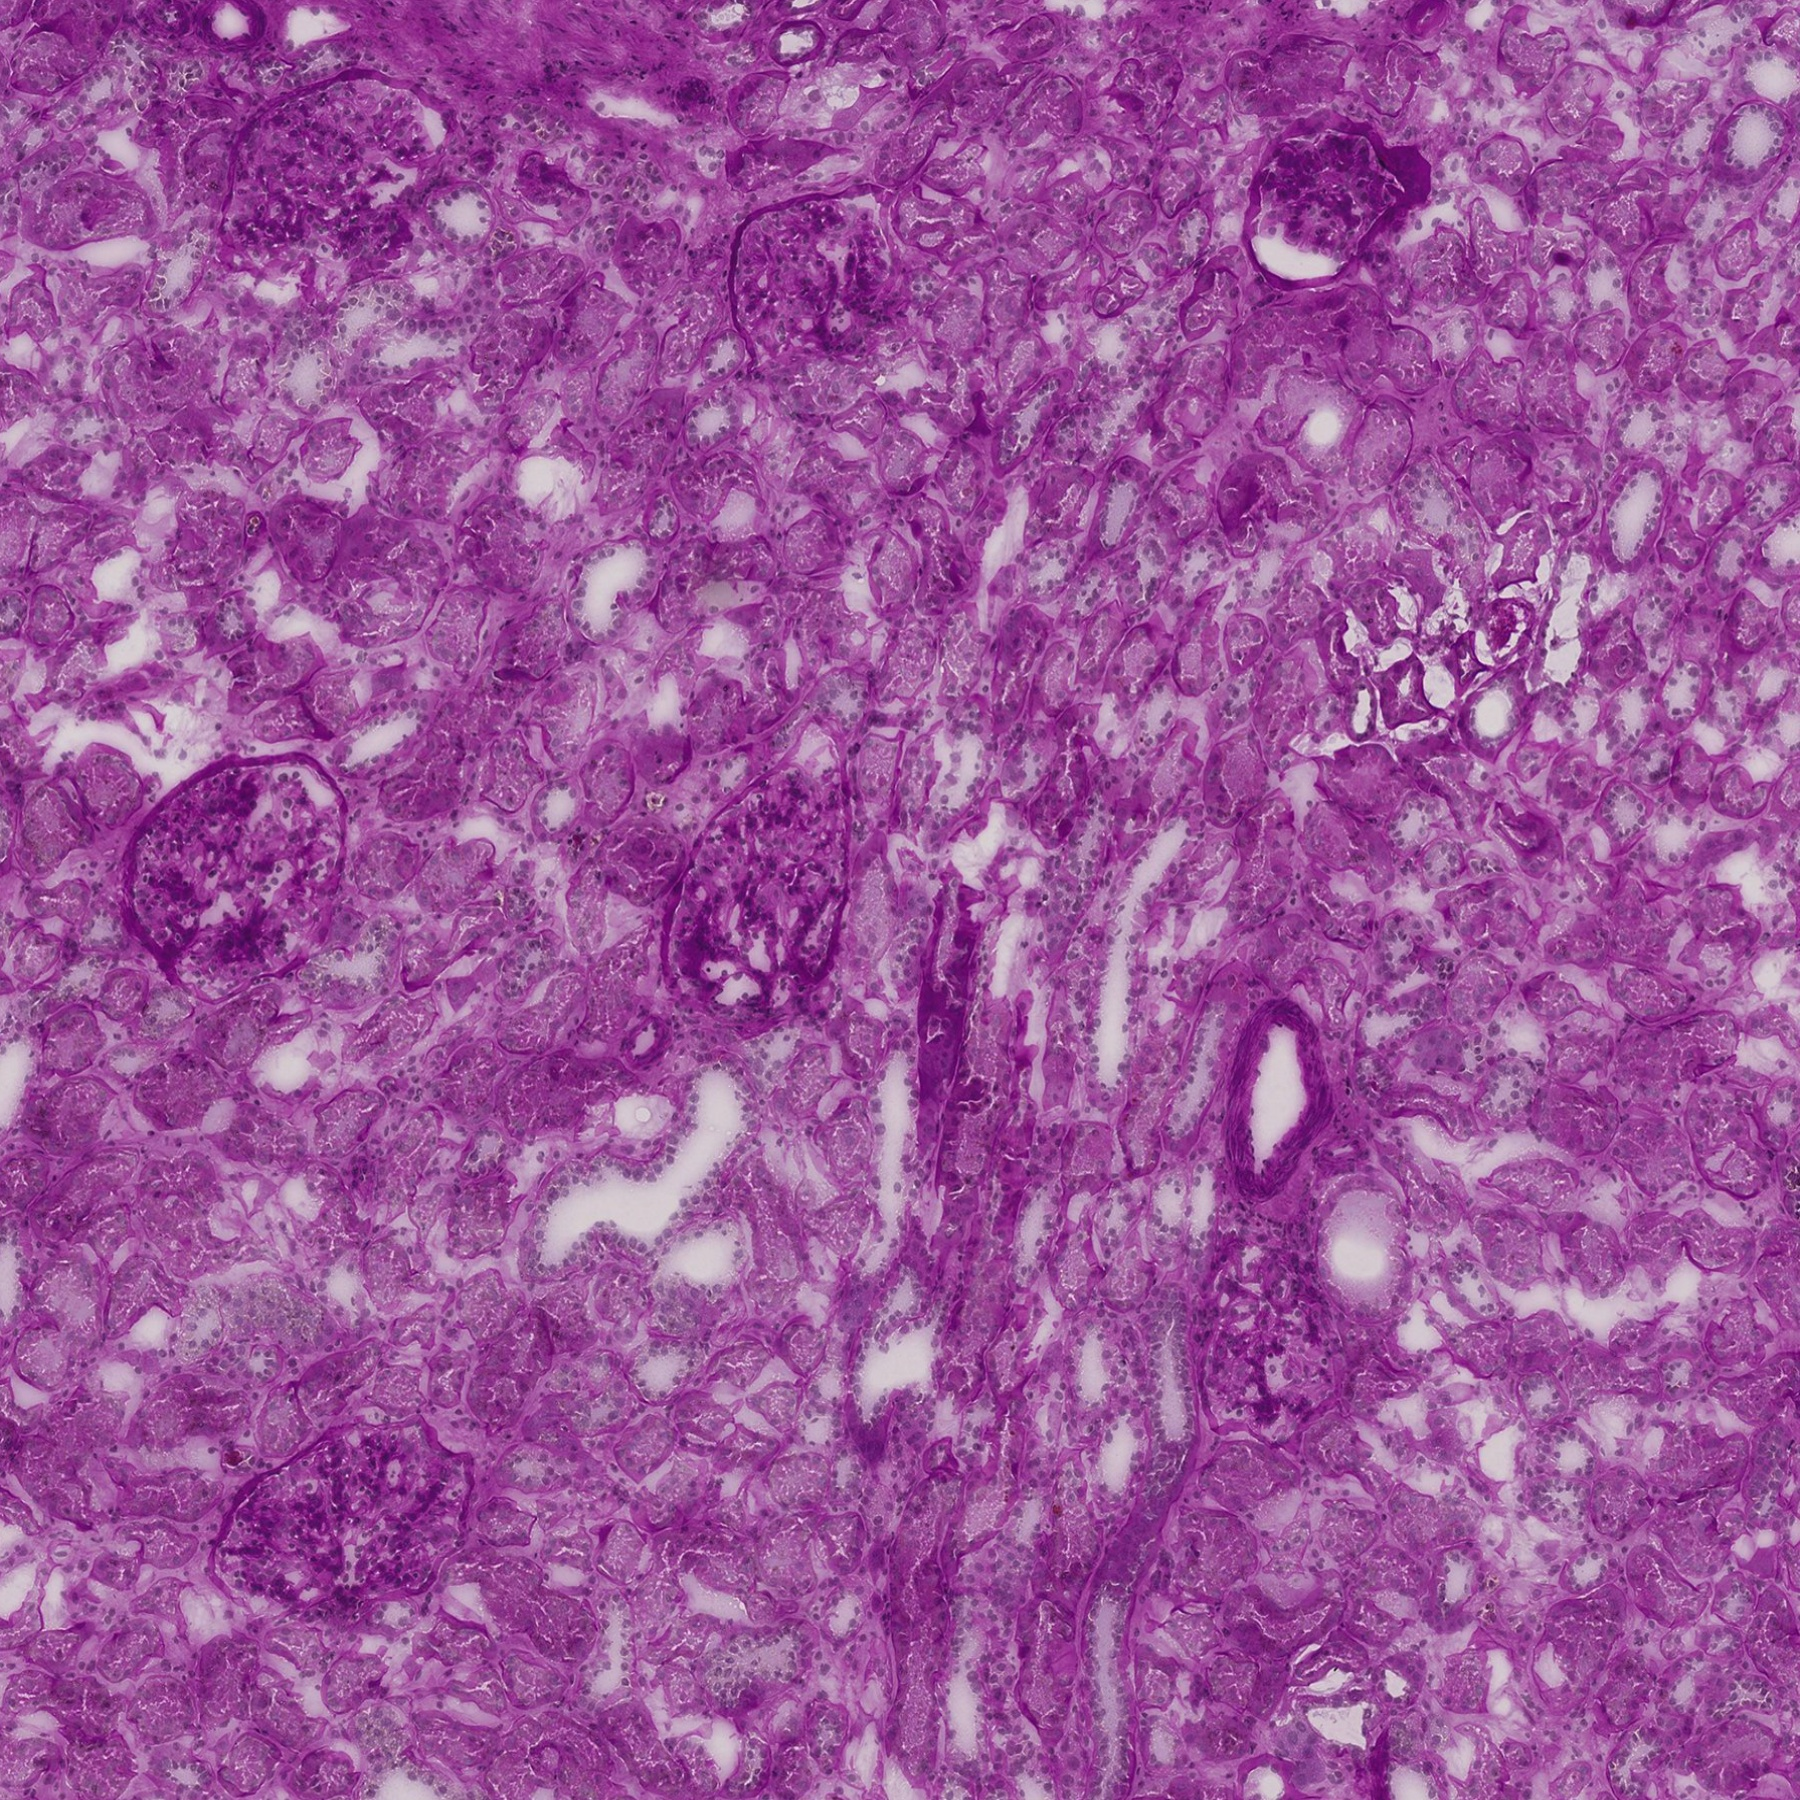Glomeruli: (656, 719, 855, 1038), (115, 747, 354, 1009), (204, 1409, 478, 1617), (226, 71, 453, 237), (730, 178, 905, 358), (1231, 120, 1416, 284)
